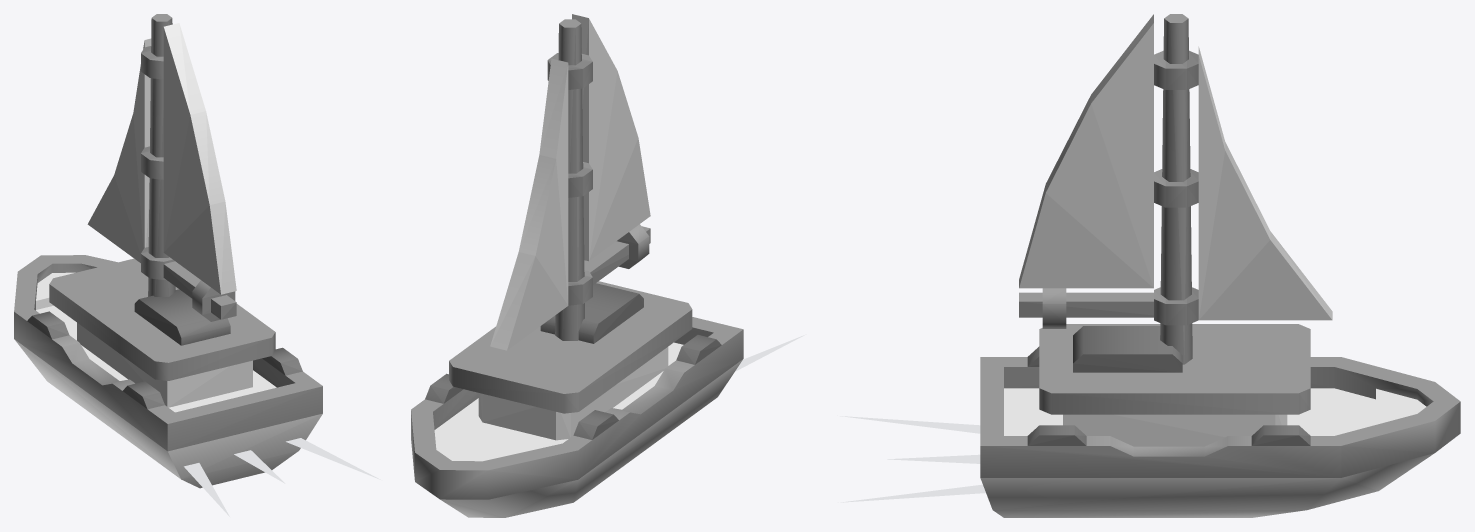
Rendered from emerald_ferry.glb.
3 views of the same model, side by side, from view 1: azimuth 30°, elevation 25°; view 2: azimuth 150°, elevation 25°; view 3: azimuth 270°, elevation 25° (orthographic). The views are drawn at different scales.
Visible parts, largest first — view 1: Body, Wake; view 2: Body; view 3: Body, Wake.
Boxes of the visible parts, box(x1,y1,x2,y2) form: Body: box(14, 14, 322, 488); Wake: box(184, 438, 380, 516); Body: box(411, 14, 743, 517); Body: box(980, 14, 1460, 517); Wake: box(837, 415, 985, 502).
Bounding box in the file's own units: 6.14 × 15.41 × 18.2.
3 materials, 1 textured.
